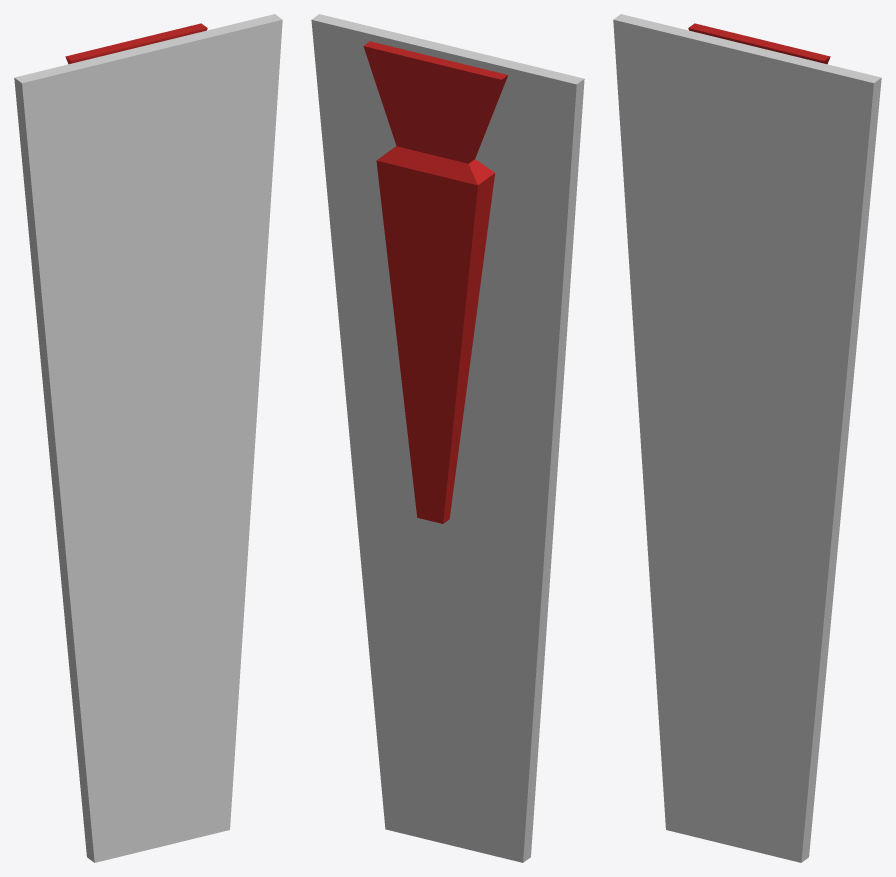
The model's file is Tie.fbx.
3 views of the same model, side by side, from view 1: azimuth 30°, elevation 25°; view 2: azimuth 150°, elevation 25°; view 3: azimuth 330°, elevation 25° (orthographic).
Visible parts, largest first — view 1: Cube.001, Cube; view 2: Cube.001, Cube; view 3: Cube.001, Cube.
Boxes of the visible parts, box(x1,y1,x2,y2) form: Cube.001: box(14, 14, 282, 862); Cube: box(65, 23, 207, 64); Cube.001: box(311, 14, 584, 862); Cube: box(363, 41, 507, 523); Cube.001: box(613, 14, 881, 862); Cube: box(688, 23, 830, 64).
Bounding box in the file's own units: 434 × 1253 × 98.69.
